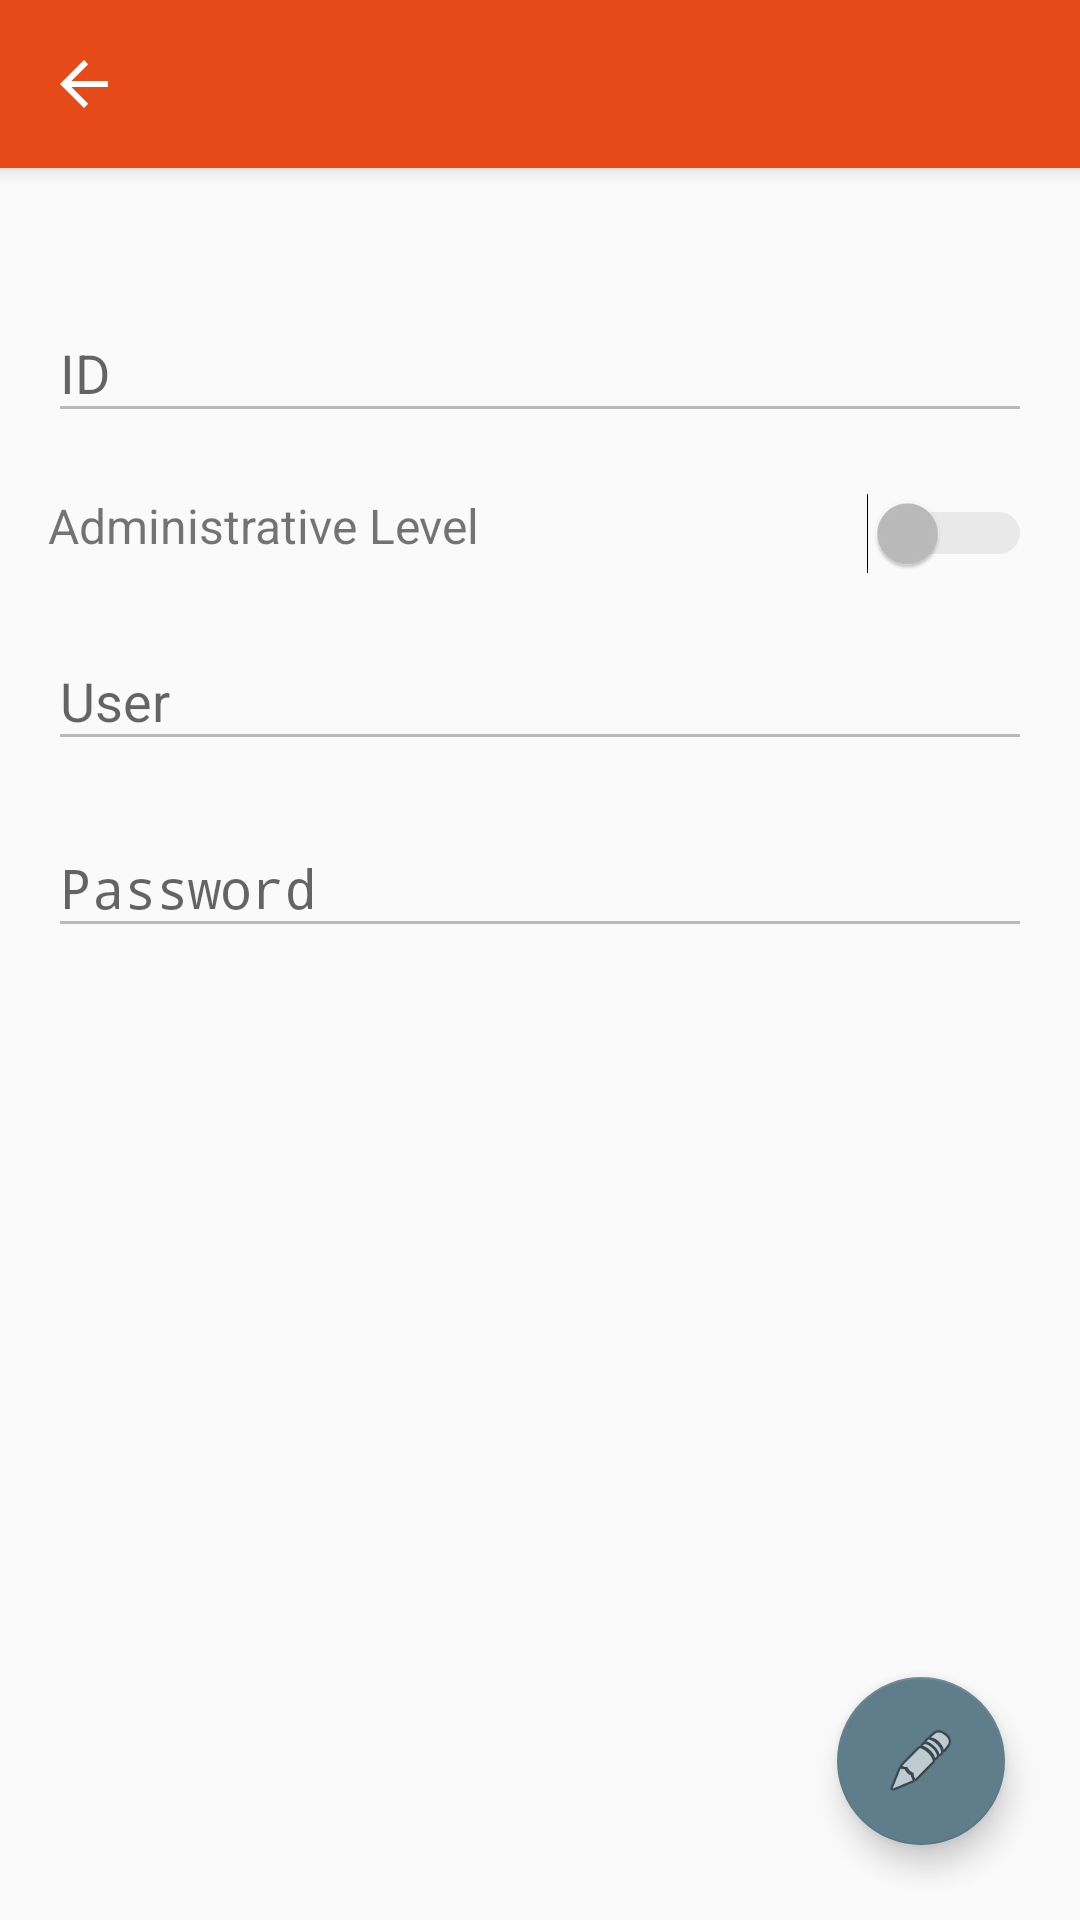

Icons on this 1080px x 1920px Android screen, each with the point to tap as (x=x, y=y):
edit: (x=921, y=1761)
